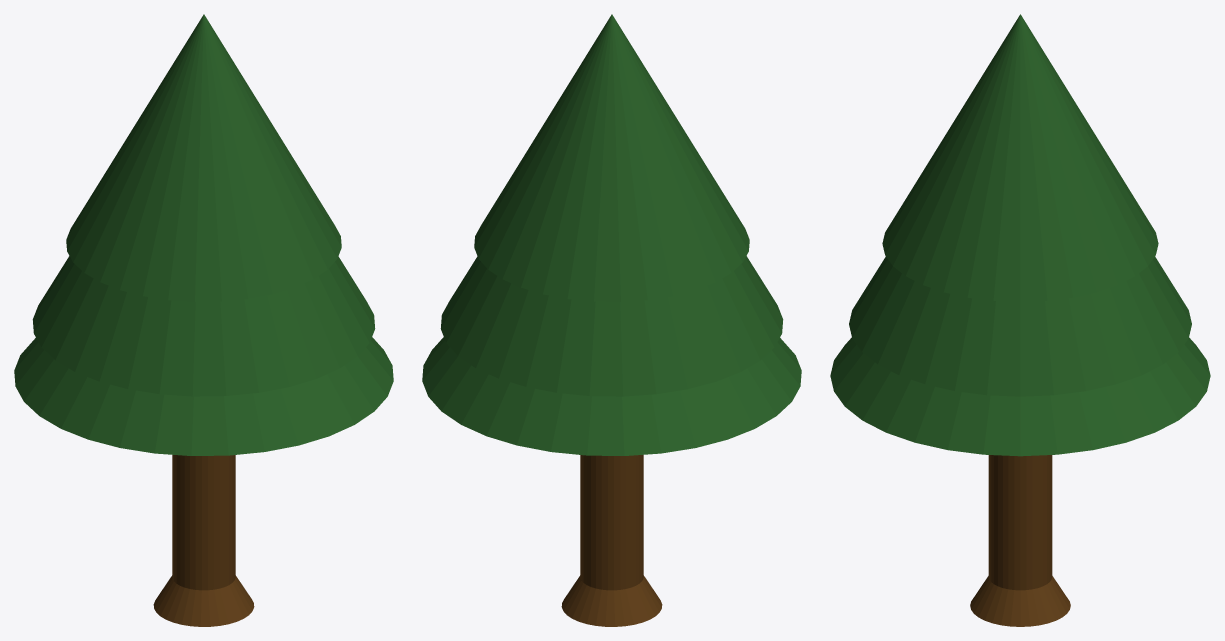
The model's file is Big Tree.glb.
3 renders of one model, left to right at view 1: azimuth 30°, elevation 25°; view 2: azimuth 150°, elevation 25°; view 3: azimuth 270°, elevation 25°, orthographic.
Visible parts, largest first — view 1: Big Tree; view 2: Big Tree; view 3: Big Tree.
Part boxes in pixels (<box>): Big Tree: <box>14,14,393,626</box>; Big Tree: <box>422,14,801,626</box>; Big Tree: <box>830,14,1210,626</box>.
Bounding box in the file's own units: 3 × 5.15 × 3.
